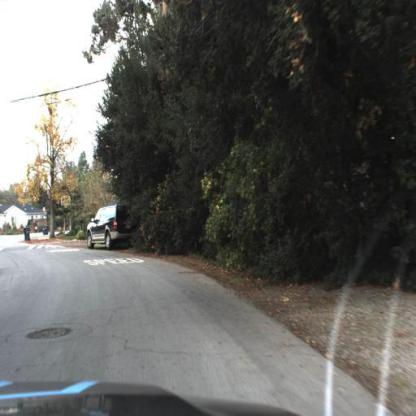car: (83, 202, 138, 260)
